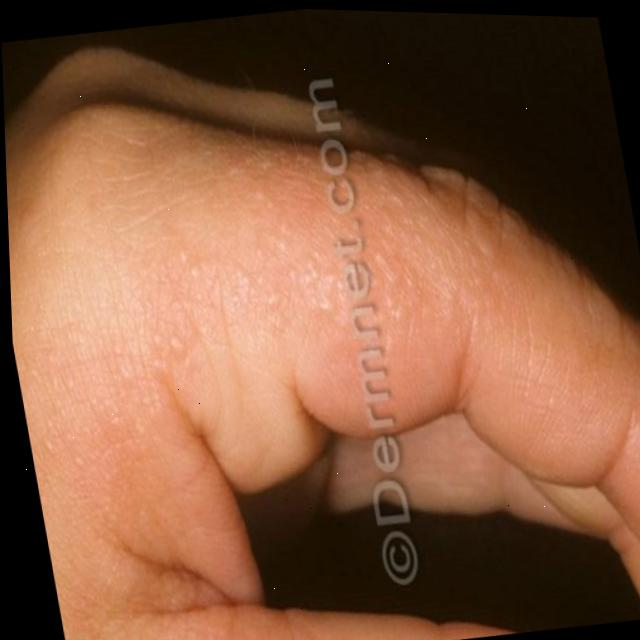Eczema: (95, 156, 433, 396)
